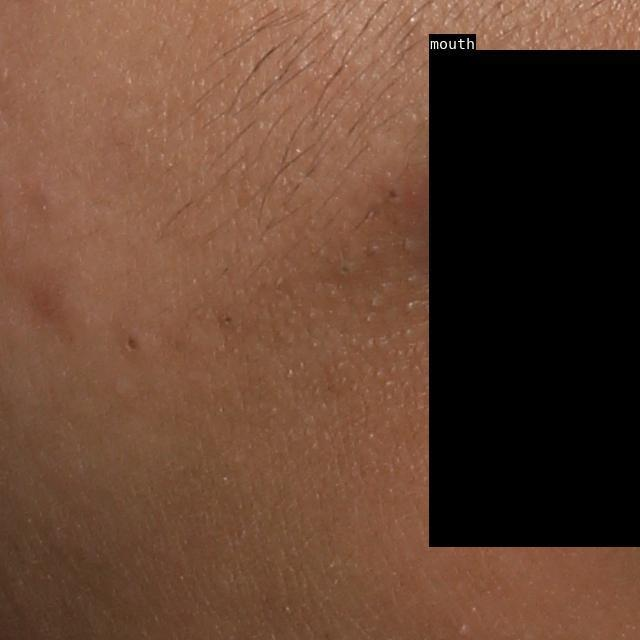comedo: (115, 325, 155, 358), (333, 258, 357, 284), (216, 308, 240, 330), (382, 180, 404, 204)
